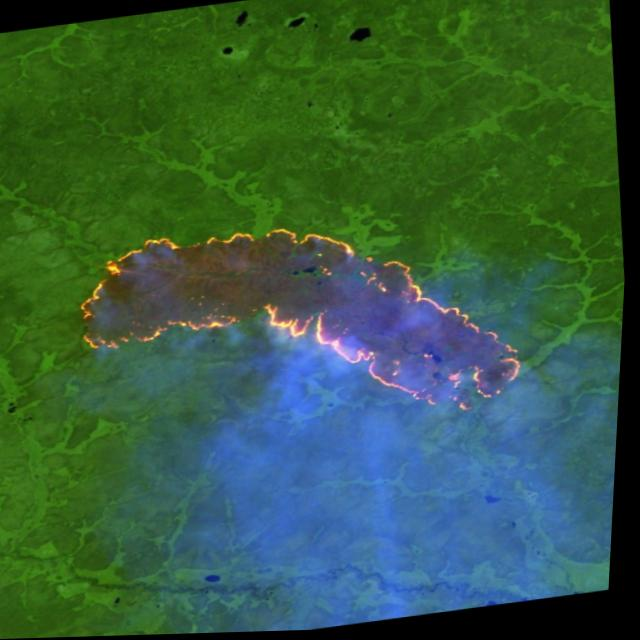fire: (66, 189, 540, 463)
